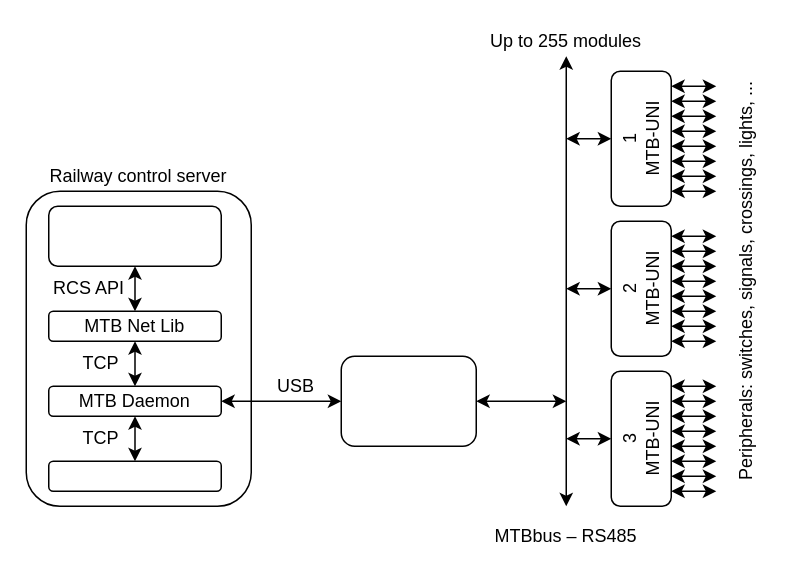
The diagram is 788 pixels wide and 576 high, and some of its shapes have lost their labels. Here are the shapes that lost their labels. From the top down, the centre of each, then its label:
the point at 134,235: hJOP
the point at 408,400: MTB-USB
the point at 134,475: Lights control
